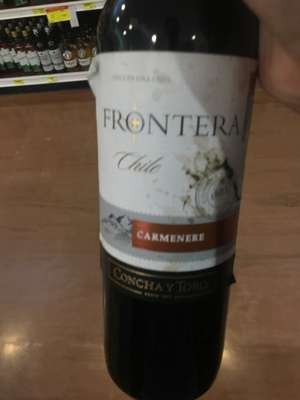frontera carmenere: (84, 5, 264, 384)
